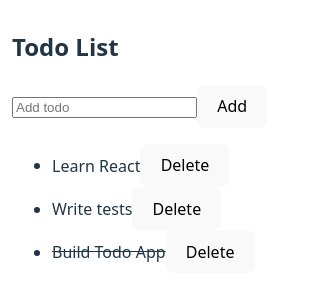
TodoList Component › adds a new todo
The width and height of the screenshot is (332, 301).
In the field with placeholder "Add todo": {"x": 104, "y": 108} left=12, top=97, right=197, bottom=118, type "New Todo Item"
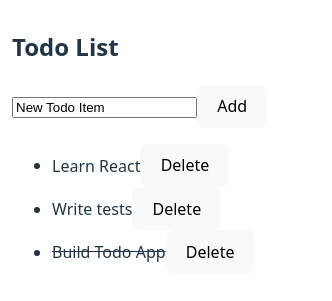
Click the button "Add": {"x": 232, "y": 106} left=197, top=84, right=267, bottom=128
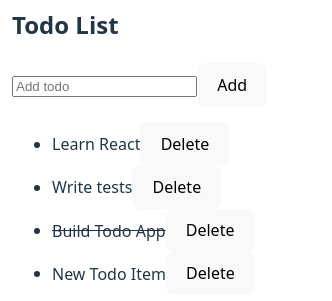
Result: the list item "New Todo Item" is shown at left=52, top=262, right=166, bottom=284
